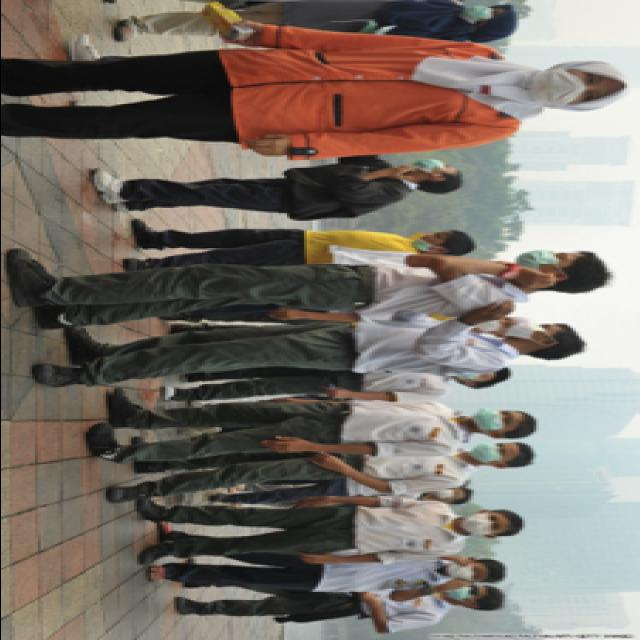mask: (530, 66, 612, 104), (515, 250, 575, 270), (461, 510, 507, 534), (472, 408, 518, 430), (467, 440, 513, 461), (462, 3, 504, 24), (507, 322, 561, 338), (448, 560, 488, 579), (473, 314, 515, 332), (445, 584, 487, 600), (411, 158, 456, 172), (436, 487, 464, 498)
no_mask: (414, 228, 451, 246)
